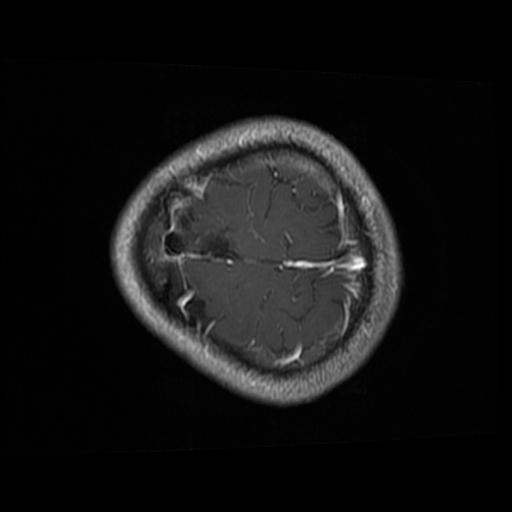glioma: (194, 228, 238, 264)
